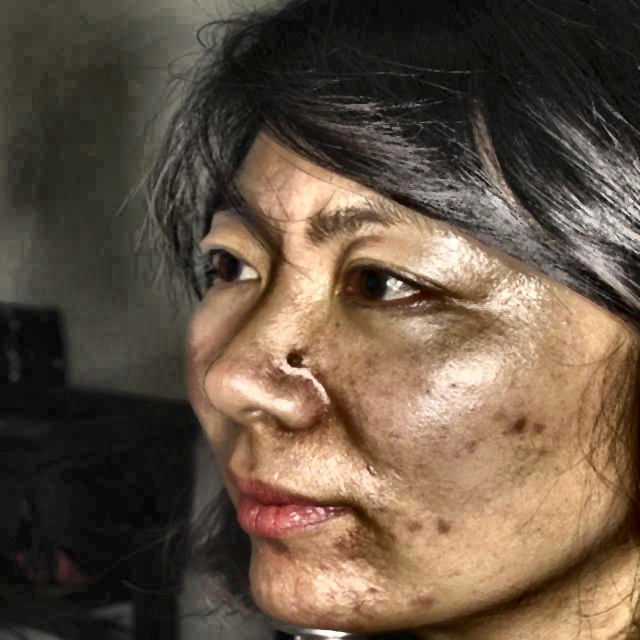comedone: (498, 407, 540, 441), (432, 505, 458, 547), (409, 588, 431, 610)
